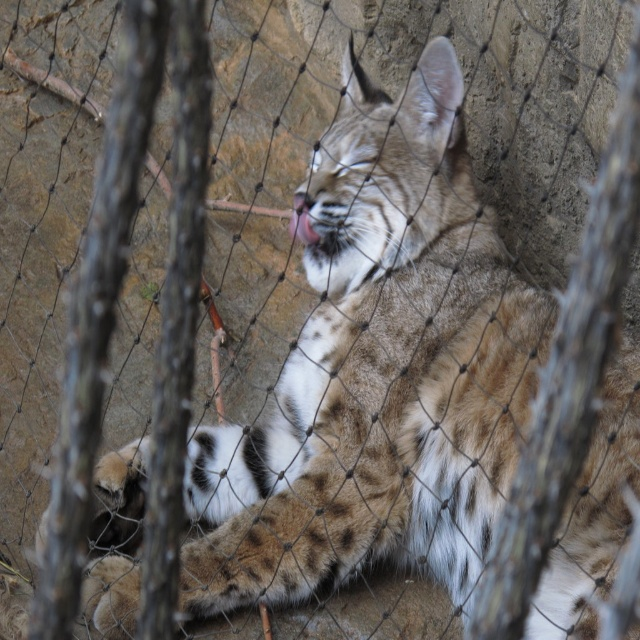Lynx: (35, 30, 640, 640)
